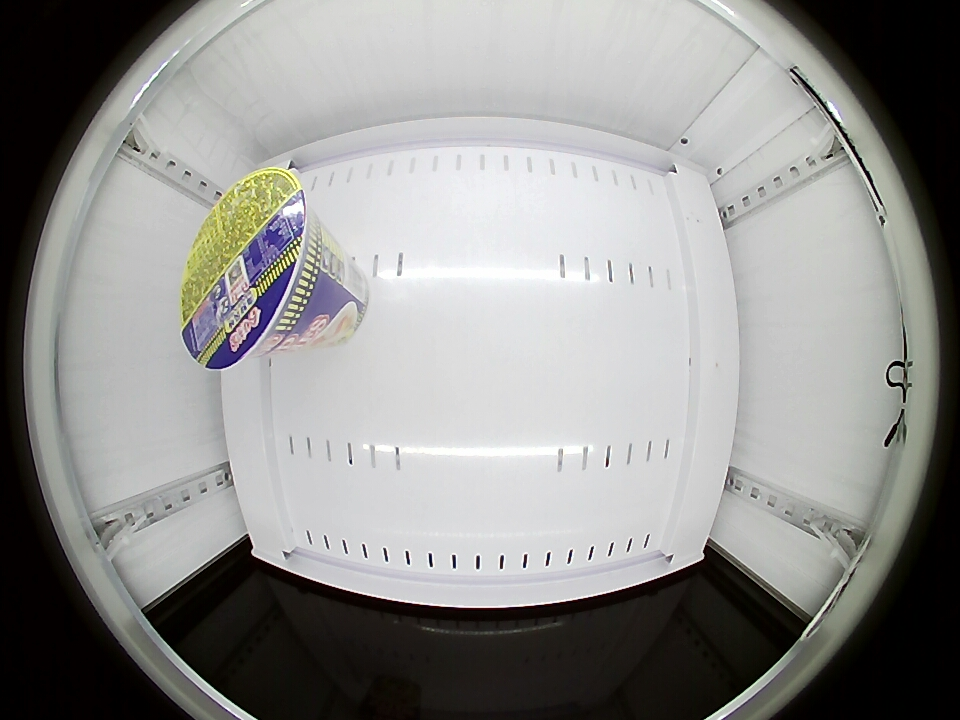heweidao: (182, 165, 318, 371)
